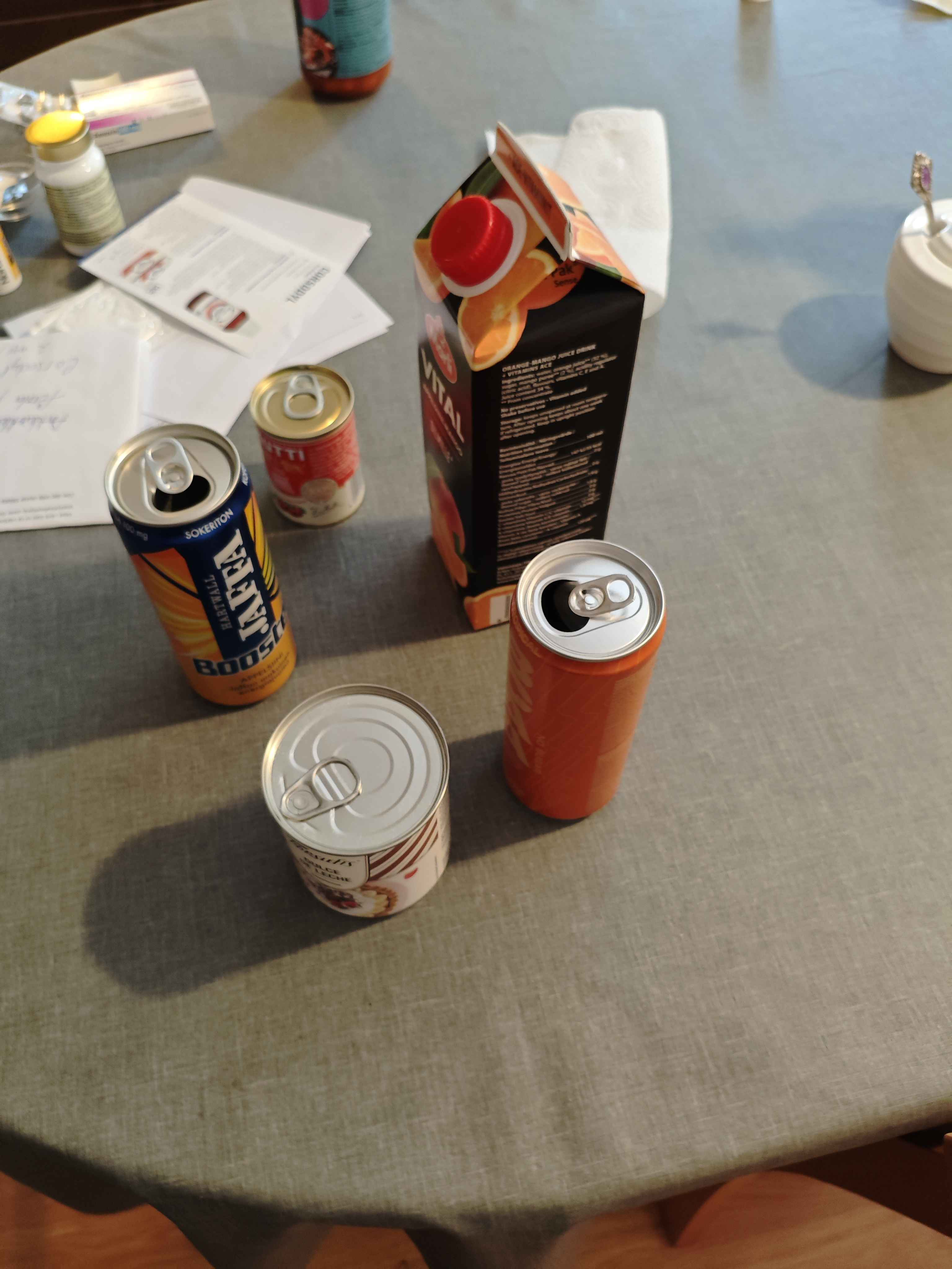Dryckeskartong: (412, 120, 648, 632)
Konservburk: (260, 684, 455, 917), (248, 365, 372, 521)
Pantburk: (101, 424, 299, 708), (500, 538, 663, 819)
